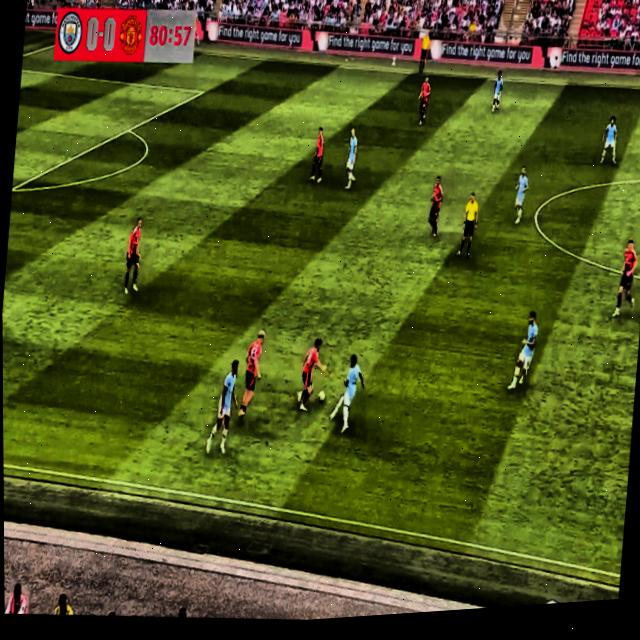ball: (315, 386, 327, 409)
players: (199, 347, 247, 464), (235, 320, 280, 433), (327, 339, 367, 438), (292, 328, 331, 422), (508, 304, 543, 399), (114, 205, 146, 303), (607, 235, 640, 323), (301, 118, 333, 193), (502, 161, 535, 233), (334, 118, 363, 192), (423, 173, 450, 236), (597, 114, 623, 170), (412, 70, 434, 134), (488, 62, 510, 122)
refree: (452, 180, 487, 266), (413, 22, 435, 77)
